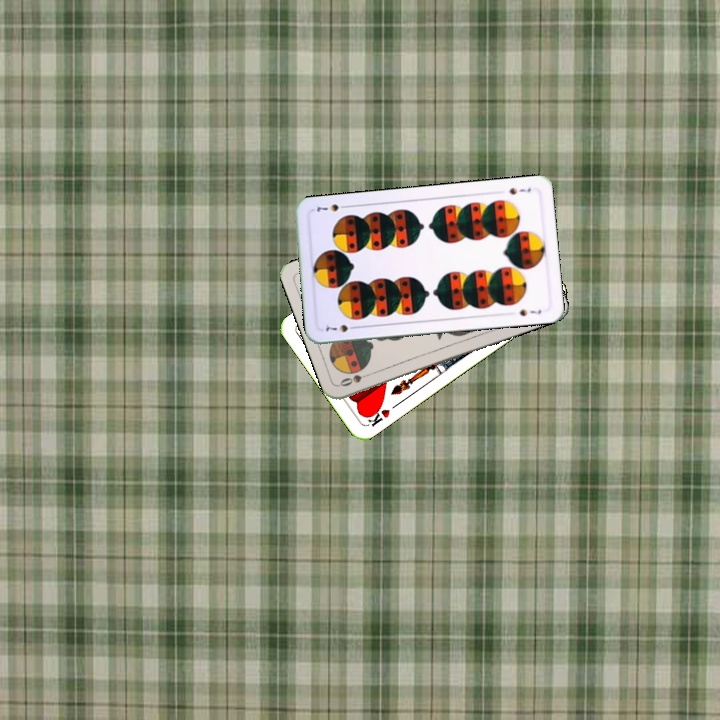HK: (362, 402, 393, 430)
S7: (320, 320, 360, 335), (505, 183, 533, 197)
SO: (336, 368, 375, 389)
